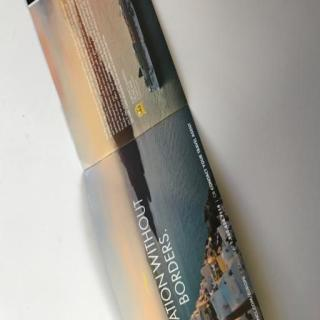PAPER: (24, 0, 258, 320)
